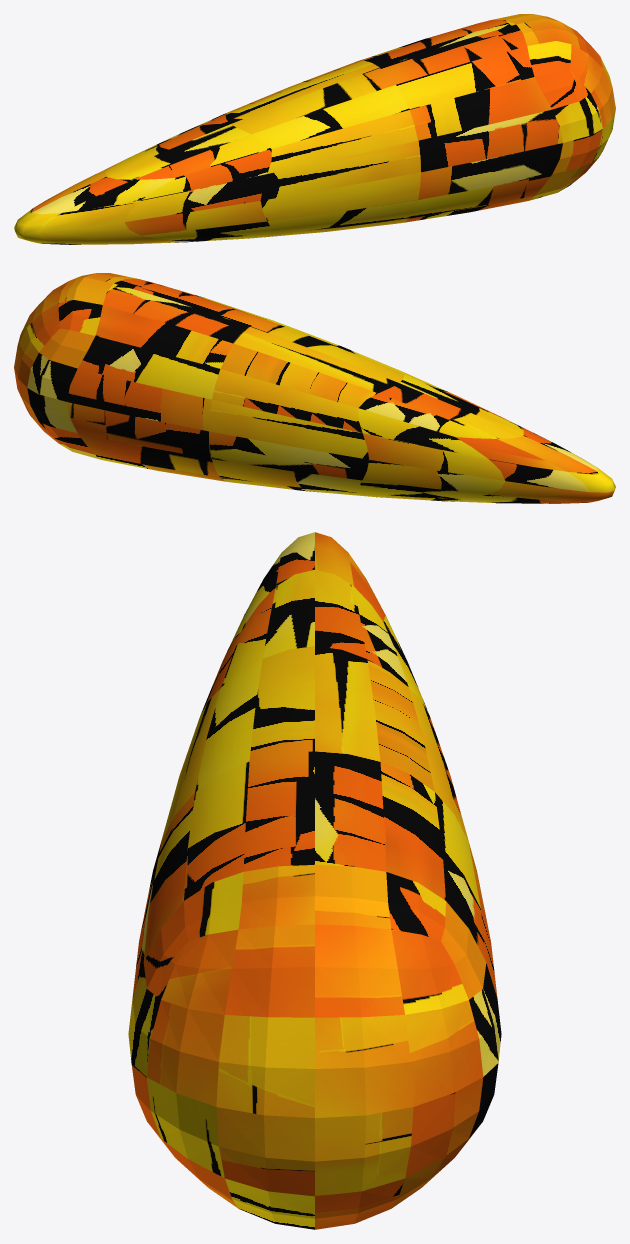
File: balacanon.obj
The picture shows the model from 3 angles, top to bottom: view 1: azimuth 30°, elevation 25°; view 2: azimuth 150°, elevation 25°; view 3: azimuth 270°, elevation 25°; orthographic projection. The views are drawn at different scales.
Parts seen in each view (by area): view 1: Cube; view 2: Cube; view 3: Cube.
Boxes of the visible parts, bbox=[...] form: Cube: bbox=[14, 14, 615, 244]; Cube: bbox=[14, 273, 615, 503]; Cube: bbox=[128, 532, 501, 1229].
Size of the model in its own units: 3.72 by 1.02 by 1.02.
Materials: 1 (1 with a texture image).
